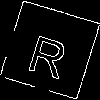R: (25, 25, 74, 80)
